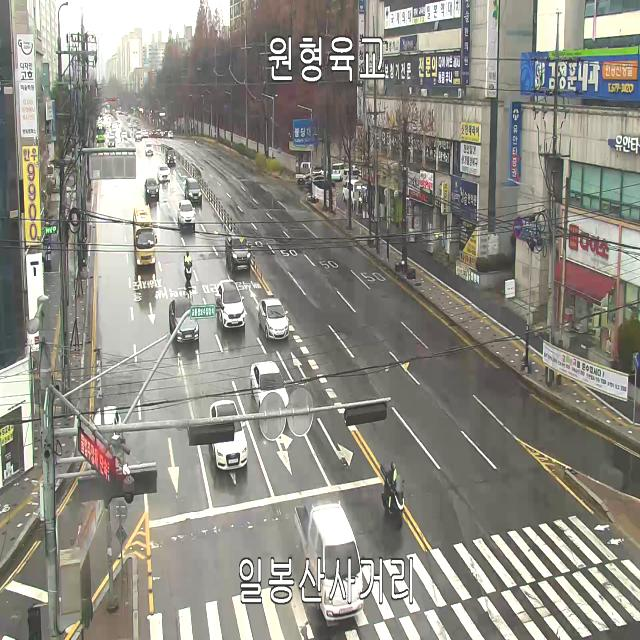Bus: (133, 204, 156, 266), (96, 124, 106, 142)
Car: (294, 500, 364, 621), (209, 399, 248, 471), (86, 406, 122, 470), (250, 360, 290, 412), (217, 279, 245, 329), (258, 297, 290, 340), (169, 298, 199, 343), (225, 233, 251, 272), (342, 179, 362, 206), (296, 161, 314, 186), (178, 200, 195, 225), (185, 178, 202, 202), (342, 169, 362, 186), (306, 173, 328, 187), (144, 178, 160, 197), (332, 162, 344, 182), (157, 164, 170, 180), (313, 167, 328, 179), (166, 150, 176, 166), (145, 143, 154, 156), (108, 136, 116, 147), (120, 130, 128, 140), (135, 131, 142, 141), (348, 164, 360, 169), (156, 129, 162, 138), (168, 130, 173, 138), (143, 131, 148, 138), (164, 130, 168, 138), (151, 132, 156, 138), (149, 132, 151, 138)
